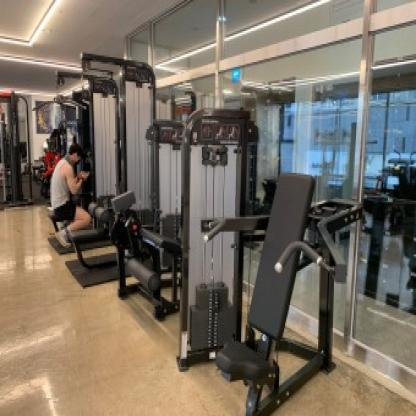shoulder press machine: (169, 106, 370, 416)
